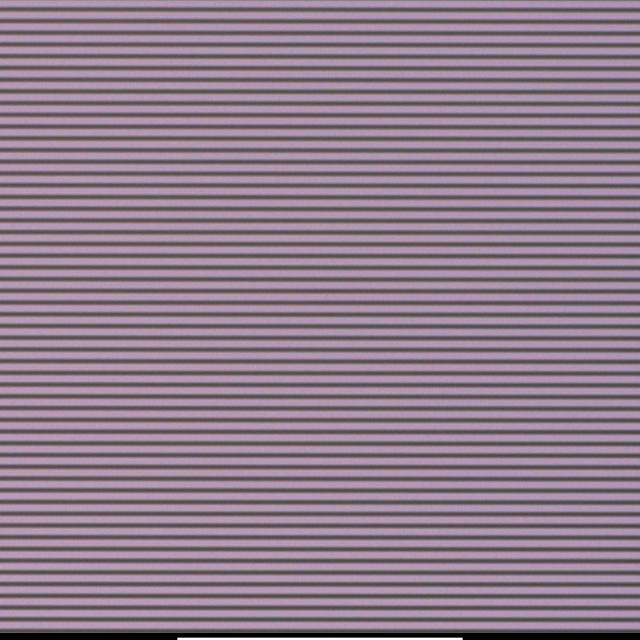03_intrusion: (323, 291, 328, 299)
